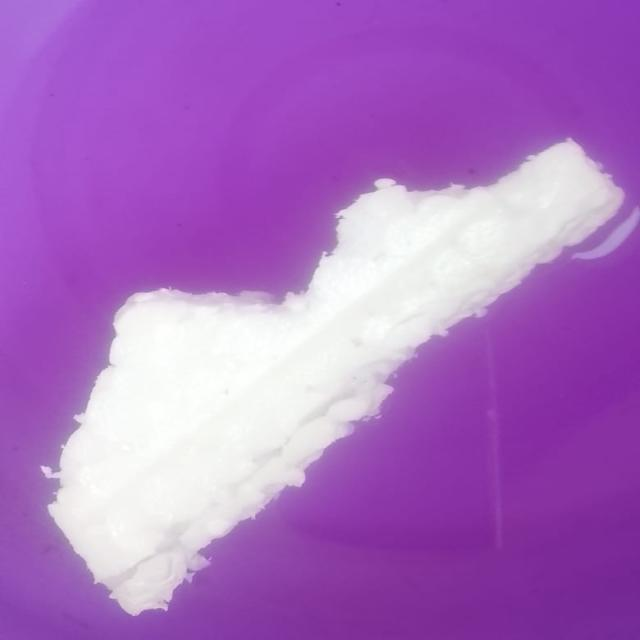thermocoal: (9, 108, 628, 629)
